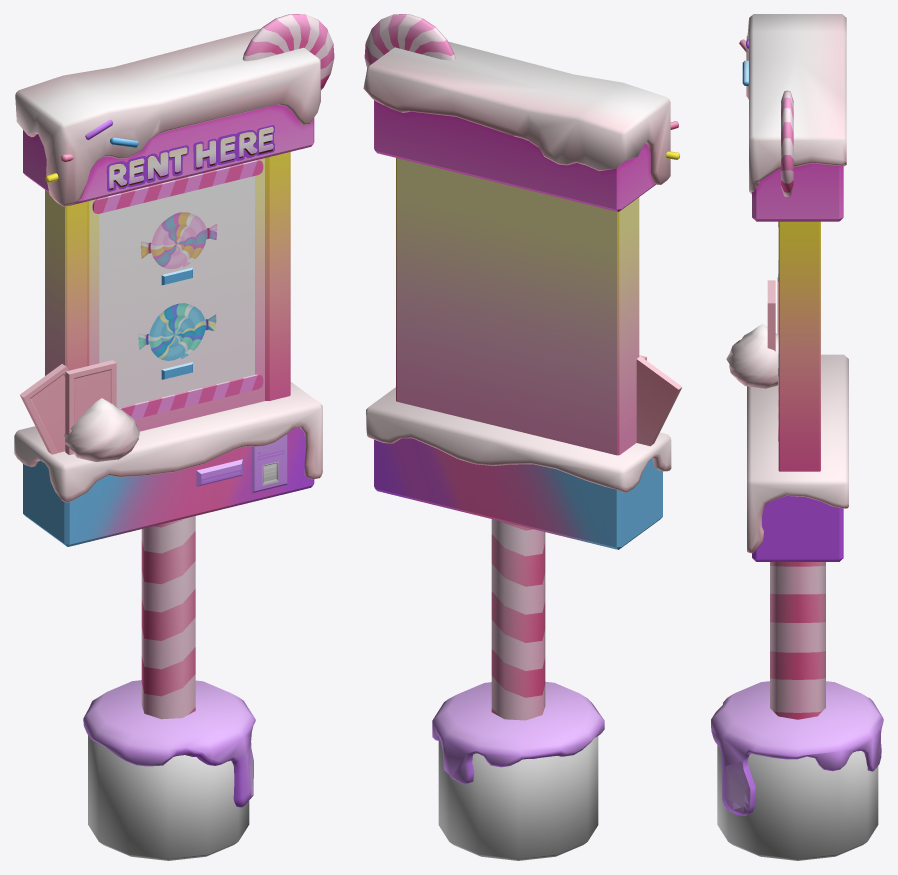
The model's file is VE_Kiosk_011.FBX.
The picture shows the model from 3 angles, left to right: view 1: azimuth 30°, elevation 25°; view 2: azimuth 150°, elevation 25°; view 3: azimuth 270°, elevation 25°; orthographic projection.
Parts seen in each view (by area): view 1: VE_Kiosk_011, VE_Kiosk_011_1; view 2: VE_Kiosk_011; view 3: VE_Kiosk_011.
Part boxes in pixels (x1,y1,x2,y2): VE_Kiosk_011: [14, 14, 334, 860]; VE_Kiosk_011_1: [138, 212, 217, 360]; VE_Kiosk_011: [363, 14, 682, 860]; VE_Kiosk_011: [711, 14, 883, 860].
Size of the model in its own units: 69.39 by 166 by 32.98.
